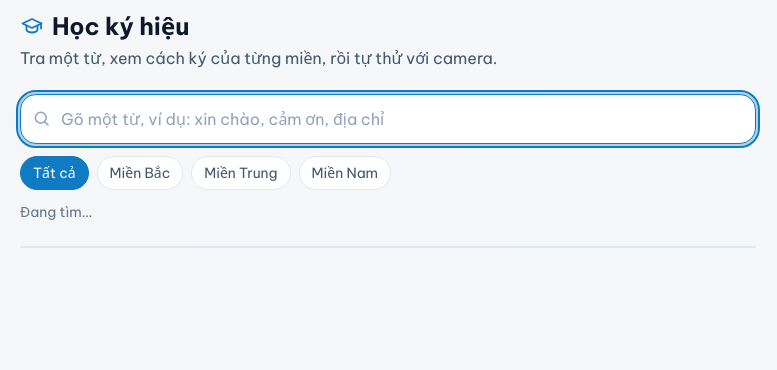
LearnPage › gõ từ → tìm (không dấu), kết quả là liên kết tới thẻ, miền hiện thành chữ
Step 1. Type "dia chi" into the search field with placeholder "Gõ một từ, ví dụ: xin chào, cảm ơn, địa chỉ" → coordinates (388, 119), box [20,94,756,144]
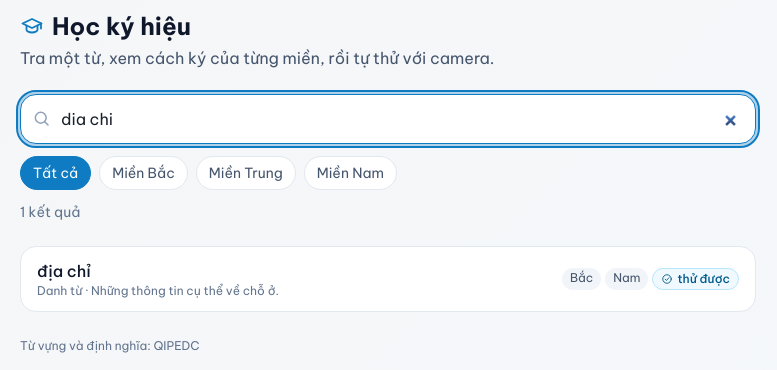
Expected: the link "địa chỉ" shows "Bắc", [37,261,739,298]
Expected: the link "địa chỉ" shows "Nam", [37,261,739,298]
Expected: the link "địa chỉ" shows "thử được", [37,261,739,298]
